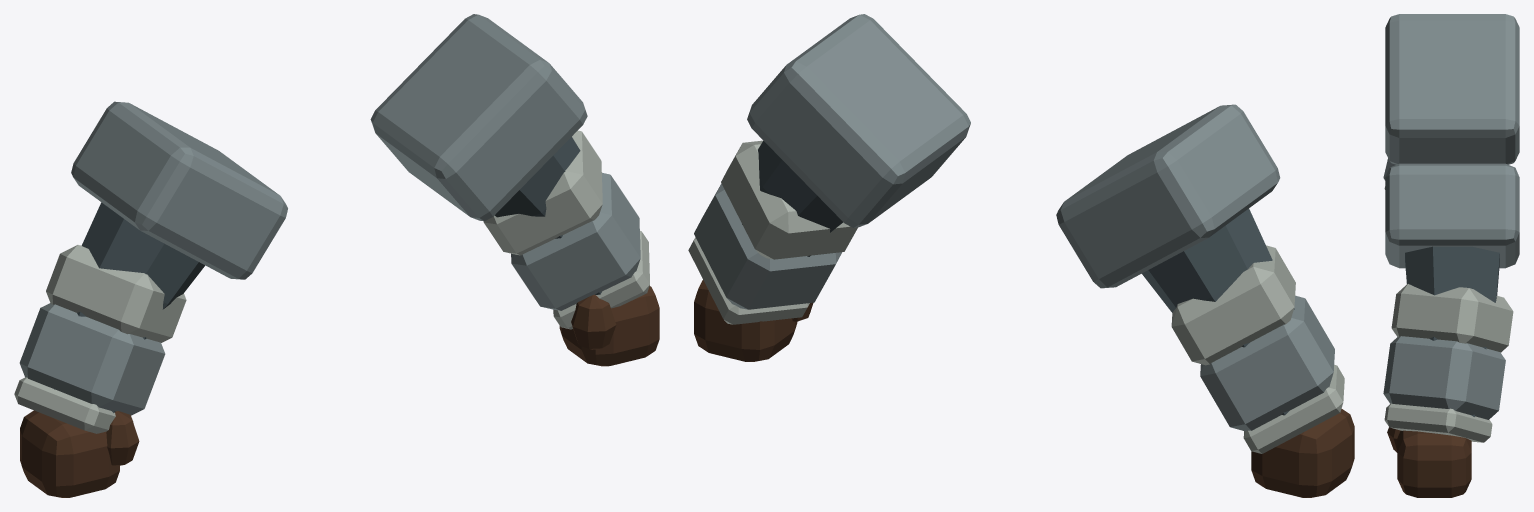
The model's file is SM_NPC_Arms_02_Armor.glb.
The picture shows the model from 3 angles, left to right: view 1: azimuth 30°, elevation 25°; view 2: azimuth 150°, elevation 25°; view 3: azimuth 270°, elevation 25°; orthographic projection. The views are drawn at different scales.
Visible parts, largest first — view 1: SM_NPC_Arms_02_Armor; view 2: SM_NPC_Arms_02_Armor; view 3: SM_NPC_Arms_02_Armor.
Part boxes in pixels (x1,y1,x2,y2): SM_NPC_Arms_02_Armor: (14,14,659,497); SM_NPC_Arms_02_Armor: (688,14,1354,497); SM_NPC_Arms_02_Armor: (1383,14,1519,497).
Bounding box in the file's own units: 1.12 × 0.5653 × 0.2436.
